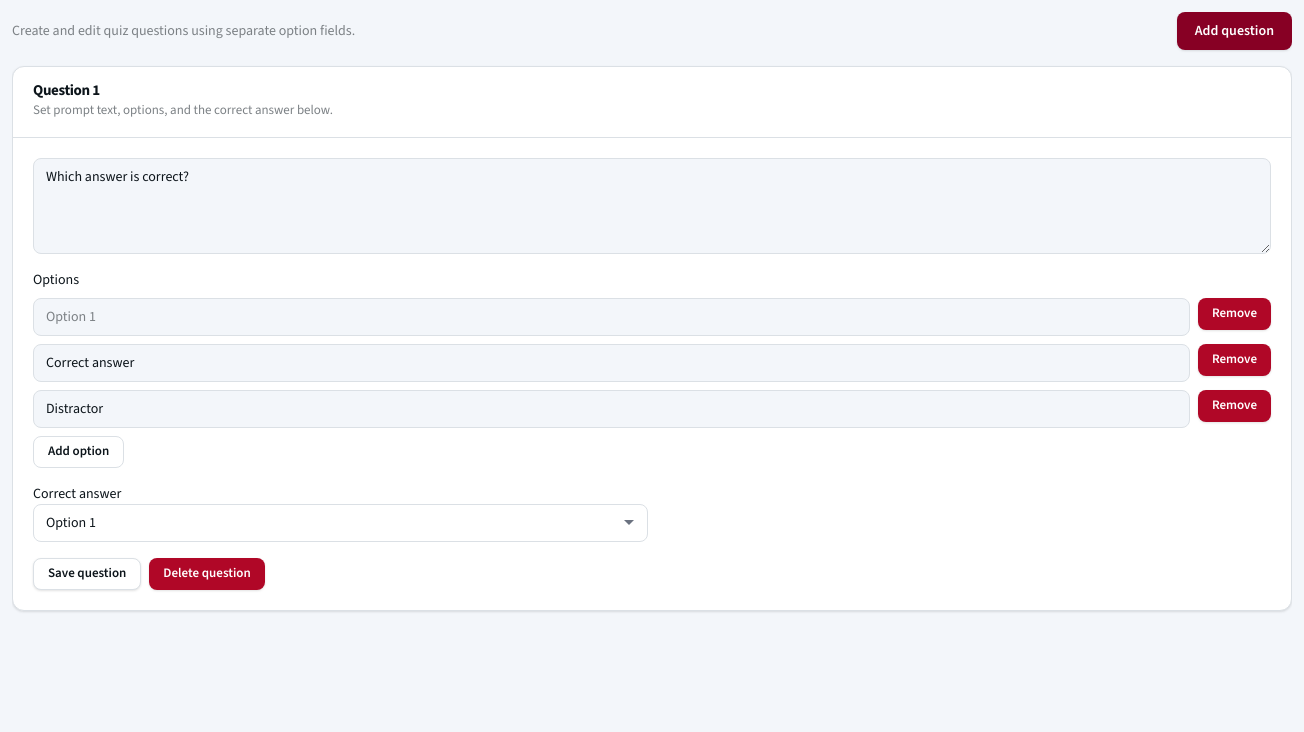
Test case: AdminLessonQuestionManager › rejects saving when the selected correct answer is blank
Click the button "Save question" at (87, 574), box [33, 558, 141, 590]
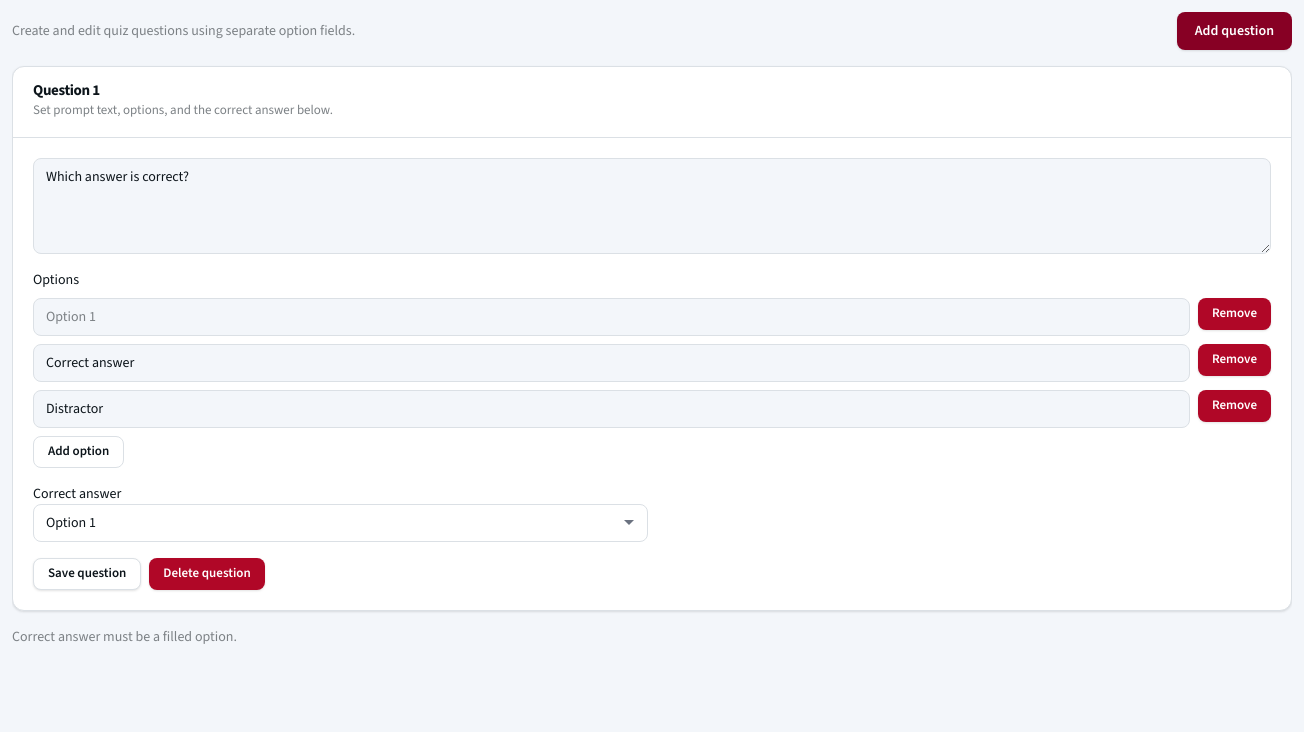
expect the text "Correct answer must be a filled option." is shown: met, box [12, 627, 237, 646]
